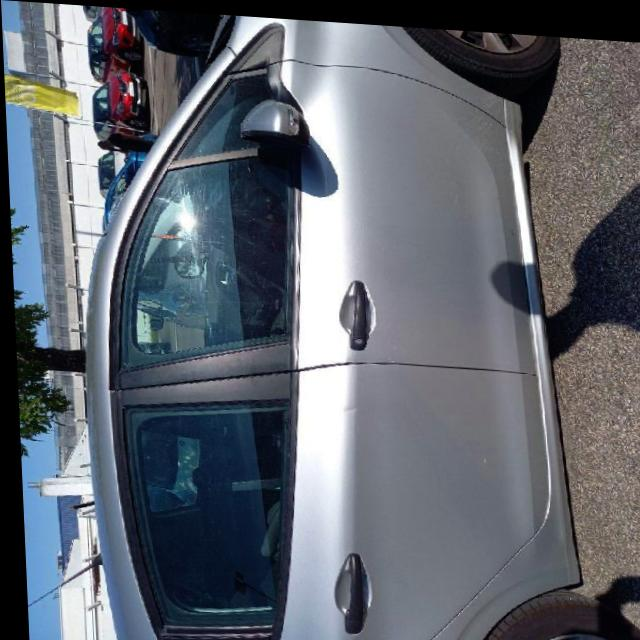porte-avant: (89, 45, 537, 413)
